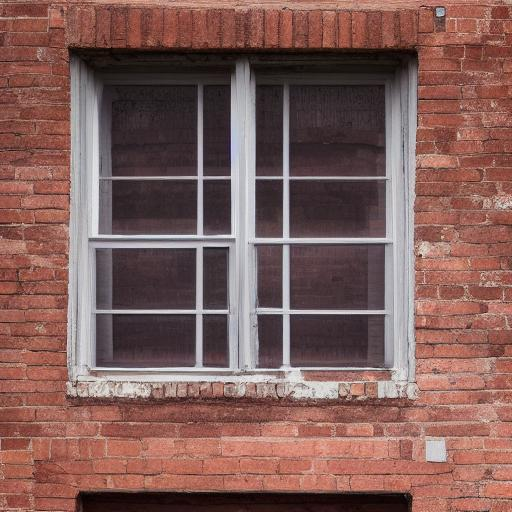Window: (42, 3, 428, 406)
